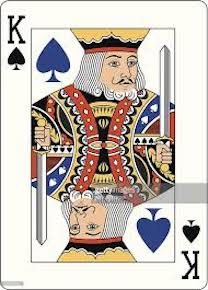KingOfSpades: (1, 1, 208, 288)
